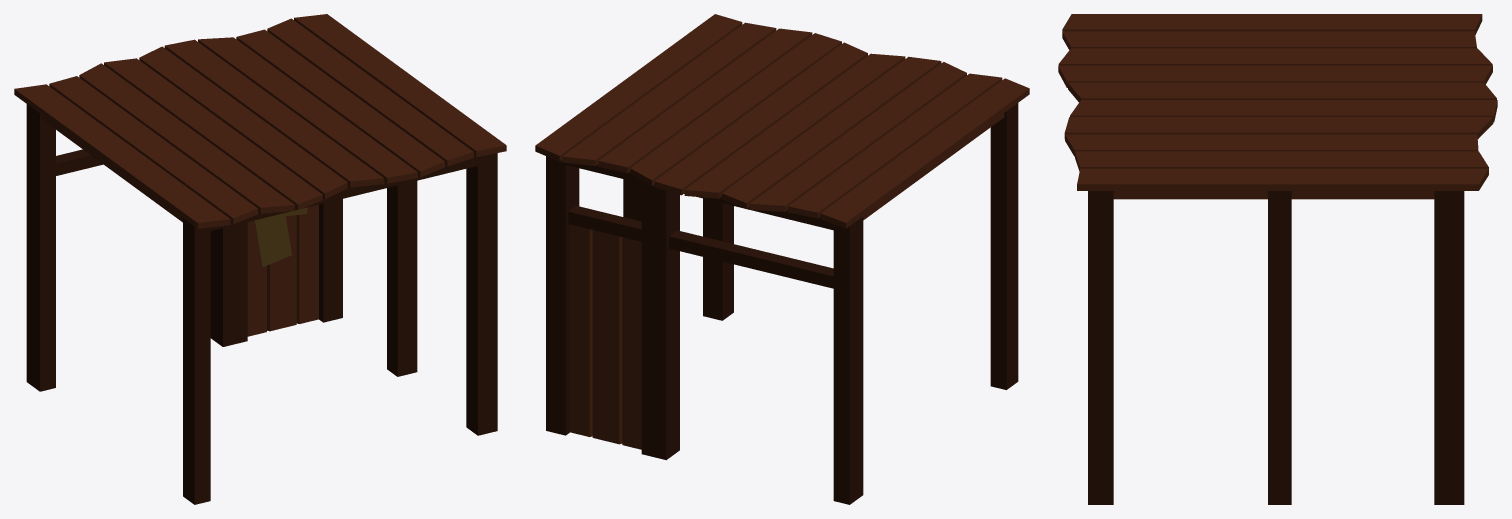
File: PortBuilding.fbx.glb
3 views of the same model, side by side, from view 1: azimuth 30°, elevation 25°; view 2: azimuth 150°, elevation 25°; view 3: azimuth 270°, elevation 25° (orthographic). The views are drawn at different scales.
Visible parts, largest first — view 1: PortBuilding; view 2: PortBuilding; view 3: PortBuilding.
Part boxes in pixels (x1,y1,x2,y2): PortBuilding: [14, 14, 506, 504]; PortBuilding: [535, 14, 1029, 504]; PortBuilding: [1058, 14, 1497, 504].
Bounding box in the file's own units: 214 × 189 × 233.
